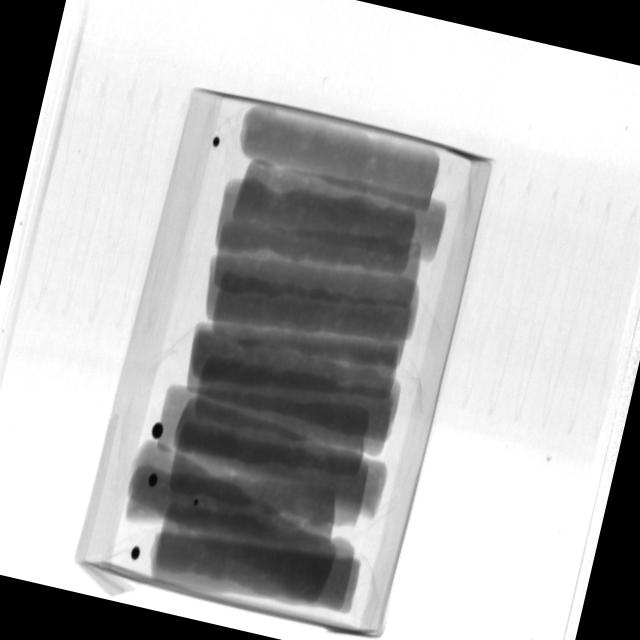ym: (151, 421, 165, 440), (147, 471, 159, 487), (130, 547, 141, 561), (213, 137, 223, 148), (193, 497, 201, 509)
